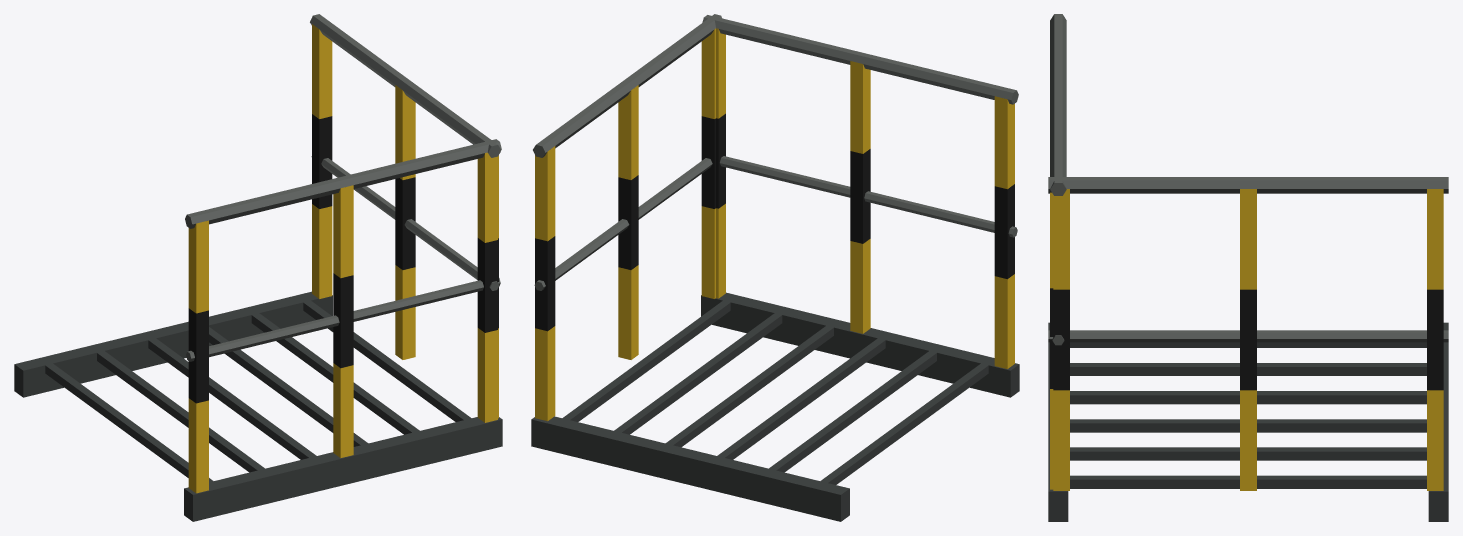
File: catwalk_corner.glb
The picture shows the model from 3 angles, left to right: view 1: azimuth 30°, elevation 25°; view 2: azimuth 150°, elevation 25°; view 3: azimuth 270°, elevation 25°; orthographic projection. The views are drawn at different scales.
Parts seen in each view (by area): view 1: surf_climb_catwalk_corner; view 2: surf_climb_catwalk_corner; view 3: surf_climb_catwalk_corner.
Part boxes in pixels (x1,y1,x2,y2): surf_climb_catwalk_corner: [14, 14, 502, 521]; surf_climb_catwalk_corner: [531, 14, 1019, 521]; surf_climb_catwalk_corner: [1048, 14, 1448, 521].
Size of the model in its own units: 1.2 by 1.12 by 1.2.
